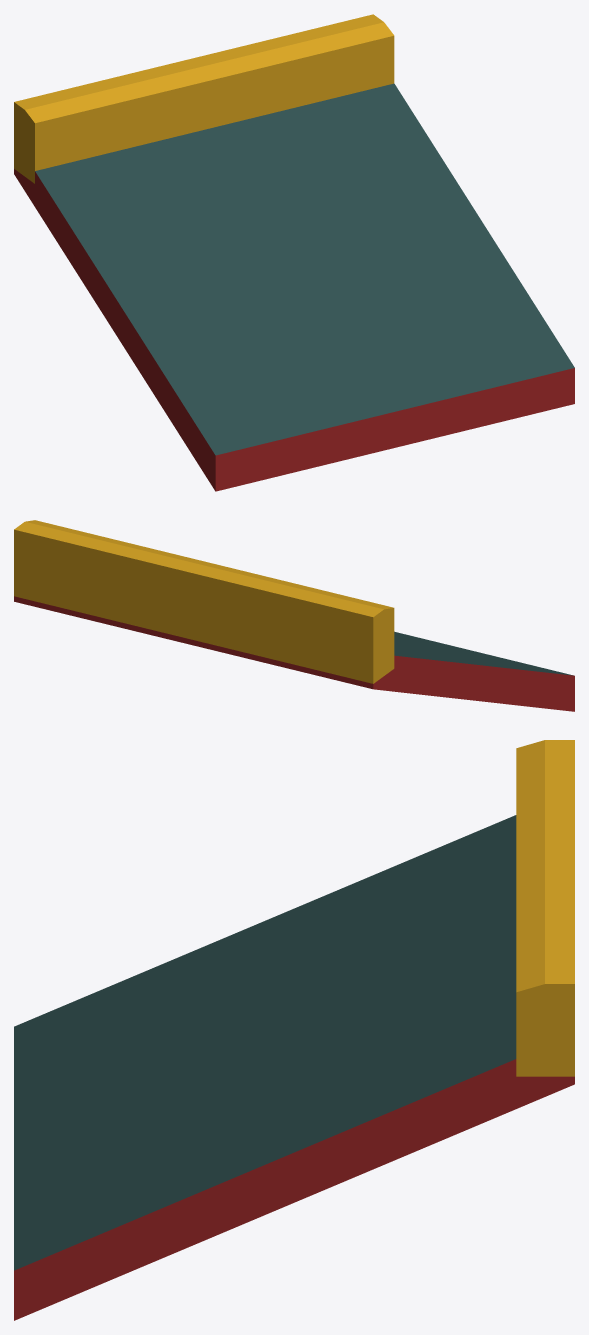
The model's file is Asian_Prop_Building_Modular_Roof_Edge_Simple_01.FBX.
The picture shows the model from 3 angles, top to bottom: view 1: azimuth 30°, elevation 25°; view 2: azimuth 150°, elevation 25°; view 3: azimuth 270°, elevation 25°; orthographic projection. The views are drawn at different scales.
Visible parts, largest first — view 1: Asian_Prop_Building_Modular_Roof_Edge_Simple_01; view 2: Asian_Prop_Building_Modular_Roof_Edge_Simple_01; view 3: Asian_Prop_Building_Modular_Roof_Edge_Simple_01.
Boxes of the visible parts, bbox=[...] form: Asian_Prop_Building_Modular_Roof_Edge_Simple_01: bbox=[14, 14, 574, 491]; Asian_Prop_Building_Modular_Roof_Edge_Simple_01: bbox=[14, 520, 574, 711]; Asian_Prop_Building_Modular_Roof_Edge_Simple_01: bbox=[14, 740, 574, 1320].
Bounding box in the file's own units: 4033 × 2596 × 3918.
